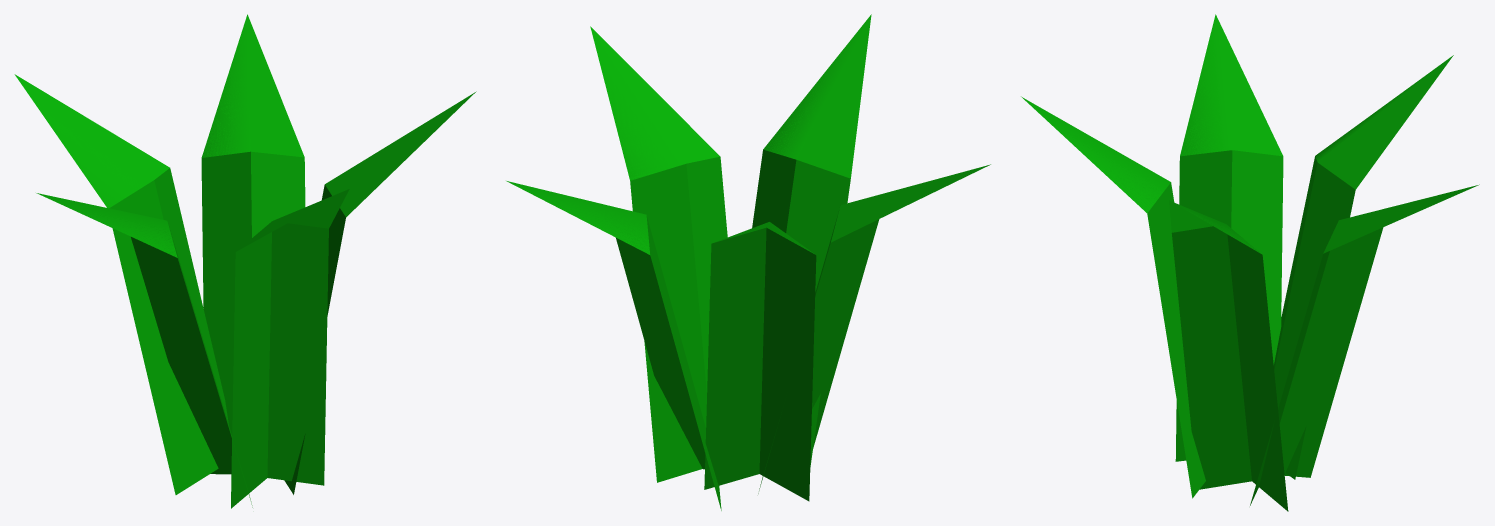
The model's file is plant_group.fbx.
3 renders of one model, left to right at view 1: azimuth 30°, elevation 25°; view 2: azimuth 150°, elevation 25°; view 3: azimuth 270°, elevation 25°, orthographic. The views are drawn at different scales.
Visible parts, largest first — view 1: plant_group; view 2: plant_group; view 3: plant_group.
Boxes of the visible parts, left/top/right/bottom form: plant_group: left=14, top=14, right=476, bottom=508; plant_group: left=506, top=14, right=990, bottom=510; plant_group: left=1021, top=14, right=1479, bottom=511.
Bounding box in the file's own units: 1.45 × 1.27 × 1.38.
